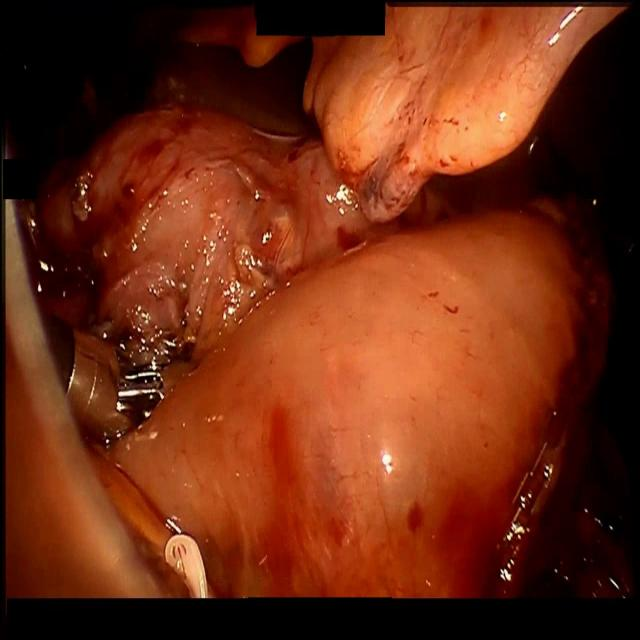surgical-area: (18, 3, 640, 604)
surgical-tool: (38, 300, 162, 442)
